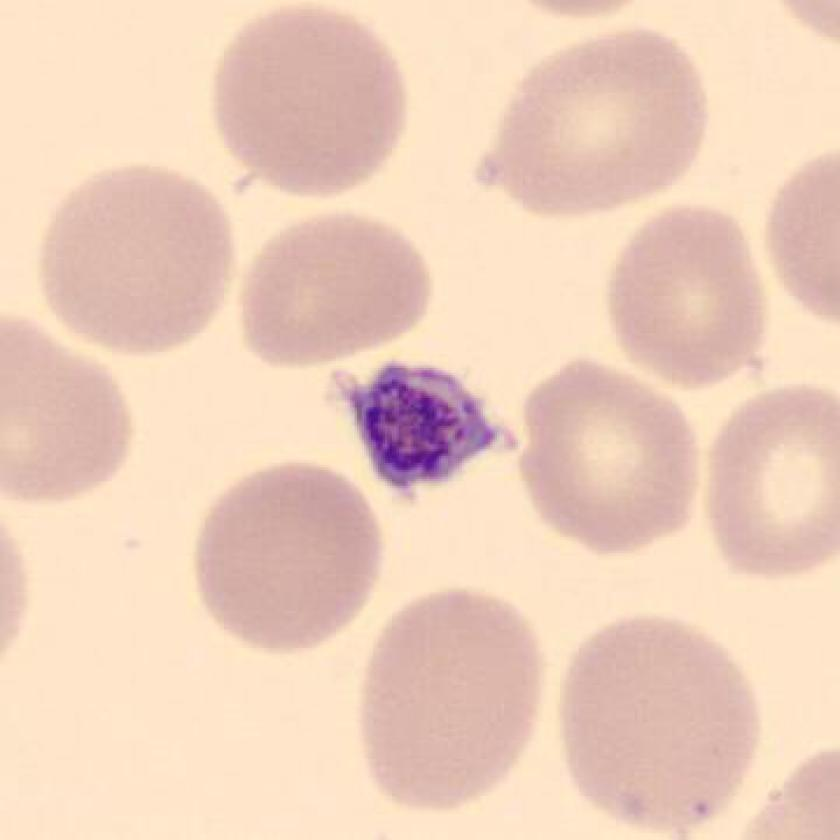platelets: (321, 339, 514, 510)
